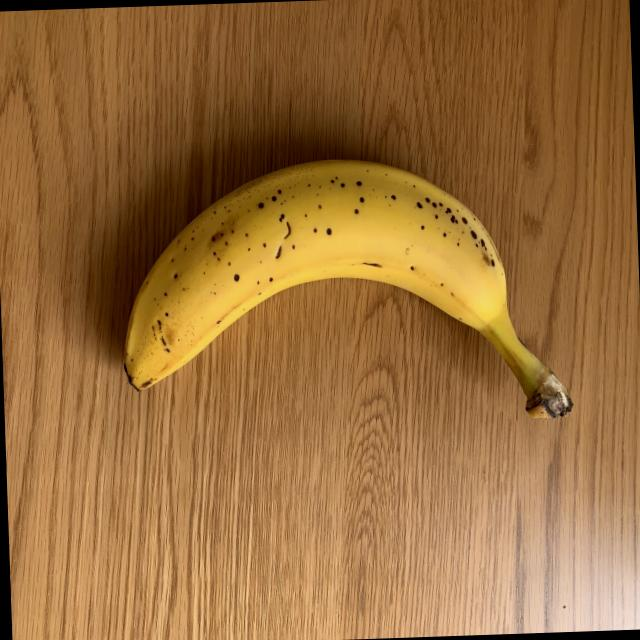Platano: (109, 149, 574, 435)
